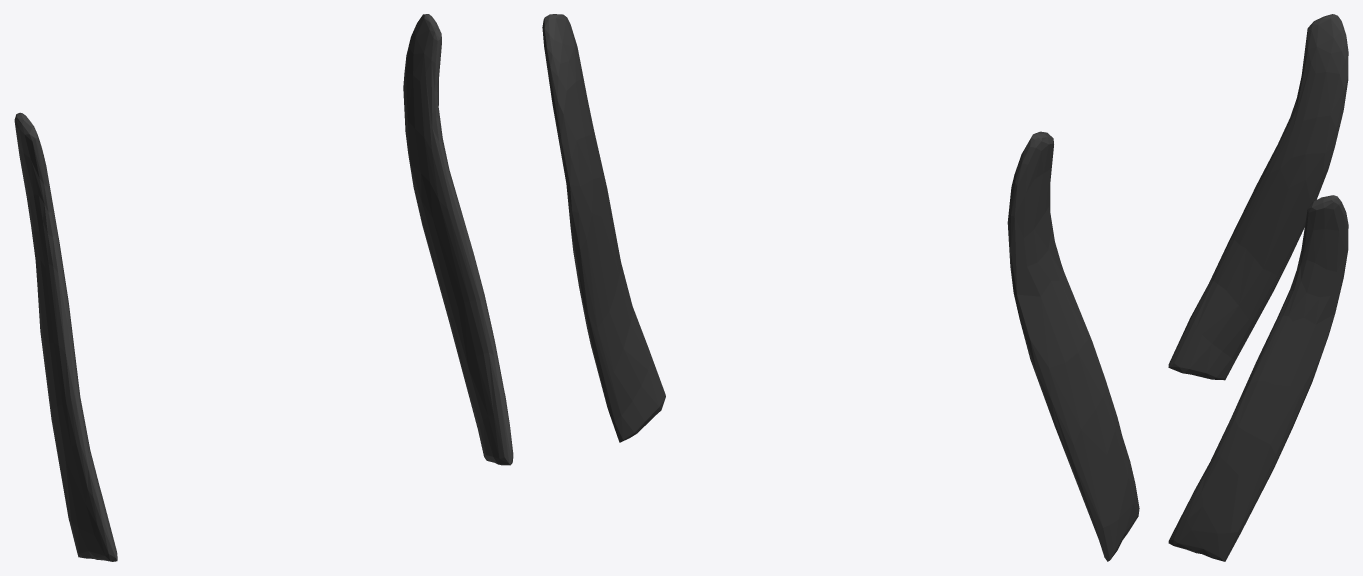
Rendered from m_tensor_fascia_antebrachii.glb.
3 views of the same model, side by side, from view 1: azimuth 30°, elevation 25°; view 2: azimuth 150°, elevation 25°; view 3: azimuth 270°, elevation 25° (orthographic). The views are drawn at different scales.
Visible parts, largest first — view 1: m_tensor_fascia_antebrachii; view 2: m_tensor_fascia_antebrachii; view 3: m_tensor_fascia_antebrachii.
Boxes of the visible parts, bbox=[...] form: m_tensor_fascia_antebrachii: bbox=[14, 14, 513, 561]; m_tensor_fascia_antebrachii: bbox=[542, 14, 1139, 561]; m_tensor_fascia_antebrachii: bbox=[1168, 14, 1348, 561].
Size of the model in its own units: 0.00321 by 0.00291 by 0.0013.
Materials: 1 (1 with a texture image).
